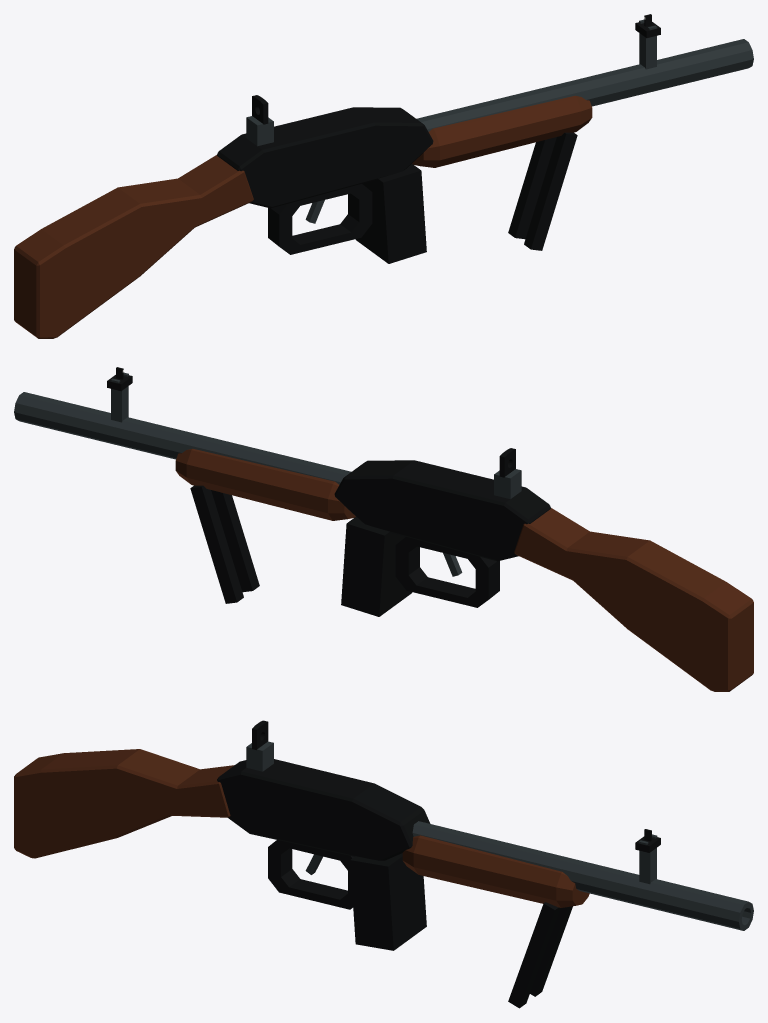
The model's file is CE_Gun_BAR.obj.
3 views of the same model, one above another, from view 1: azimuth 30°, elevation 25°; view 2: azimuth 150°, elevation 25°; view 3: azimuth 330°, elevation 25° (orthographic).
Parts seen in each view (by area): view 1: Curved_traditional_wood_stock, Model-specific_stepped_action, Hollow_barrel, Rounded_oval_fore-end, Short_BAR_box_magazine, Small_action_trigger_bow, Folded_bipod_close_to_fore-end.001, Folded_bipod_close_to_fore-end, SIGHT_R_Pedestal, SIGHT_F_Tower; view 2: Curved_traditional_wood_stock, Model-specific_stepped_action, Hollow_barrel, Rounded_oval_fore-end, Short_BAR_box_magazine, Small_action_trigger_bow, Folded_bipod_close_to_fore-end, Folded_bipod_close_to_fore-end.001, SIGHT_R_Pedestal, SIGHT_F_Tower; view 3: Curved_traditional_wood_stock, Model-specific_stepped_action, Hollow_barrel, Rounded_oval_fore-end, Short_BAR_box_magazine, Small_action_trigger_bow, Folded_bipod_close_to_fore-end.001, Folded_bipod_close_to_fore-end, SIGHT_R_Pedestal, SIGHT_F_Tower.
Boxes of the visible parts, x1,y1,x2,y2 form: Curved_traditional_wood_stock: (14,155,253,338); Model-specific_stepped_action: (217,107,433,208); Hollow_barrel: (416,39,753,131); Rounded_oval_fore-end: (412,95,592,167); Short_BAR_box_magazine: (355,164,426,263); Small_action_trigger_bow: (268,184,372,254); Folded_bipod_close_to_fore-end.001: (524,132,577,250); Folded_bipod_close_to_fore-end: (508,137,556,239); SIGHT_R_Pedestal: (246,116,273,146); SIGHT_F_Tower: (639,33,656,69); Curved_traditional_wood_stock: (514,508,753,691); Model-specific_stepped_action: (334,460,550,561); Hollow_barrel: (14,392,351,484); Rounded_oval_fore-end: (175,448,355,520); Short_BAR_box_magazine: (341,517,412,616); Small_action_trigger_bow: (395,537,499,607); Folded_bipod_close_to_fore-end: (190,485,243,603); Folded_bipod_close_to_fore-end.001: (211,490,259,592); SIGHT_R_Pedestal: (494,469,521,499); SIGHT_F_Tower: (111,386,128,422); Curved_traditional_wood_stock: (14,749,234,858); Model-specific_stepped_action: (217,759,430,860); Hollow_barrel: (412,821,753,930); Rounded_oval_fore-end: (402,835,589,907); Short_BAR_box_magazine: (350,853,426,950); Small_action_trigger_bow: (268,840,354,909); Folded_bipod_close_to_fore-end.001: (508,902,560,1008); Folded_bipod_close_to_fore-end: (530,906,572,996); SIGHT_R_Pedestal: (246,741,273,771); SIGHT_F_Tower: (639,848,656,884).
Size of the model in its own units: 1.32 by 0.3672 by 0.105.
